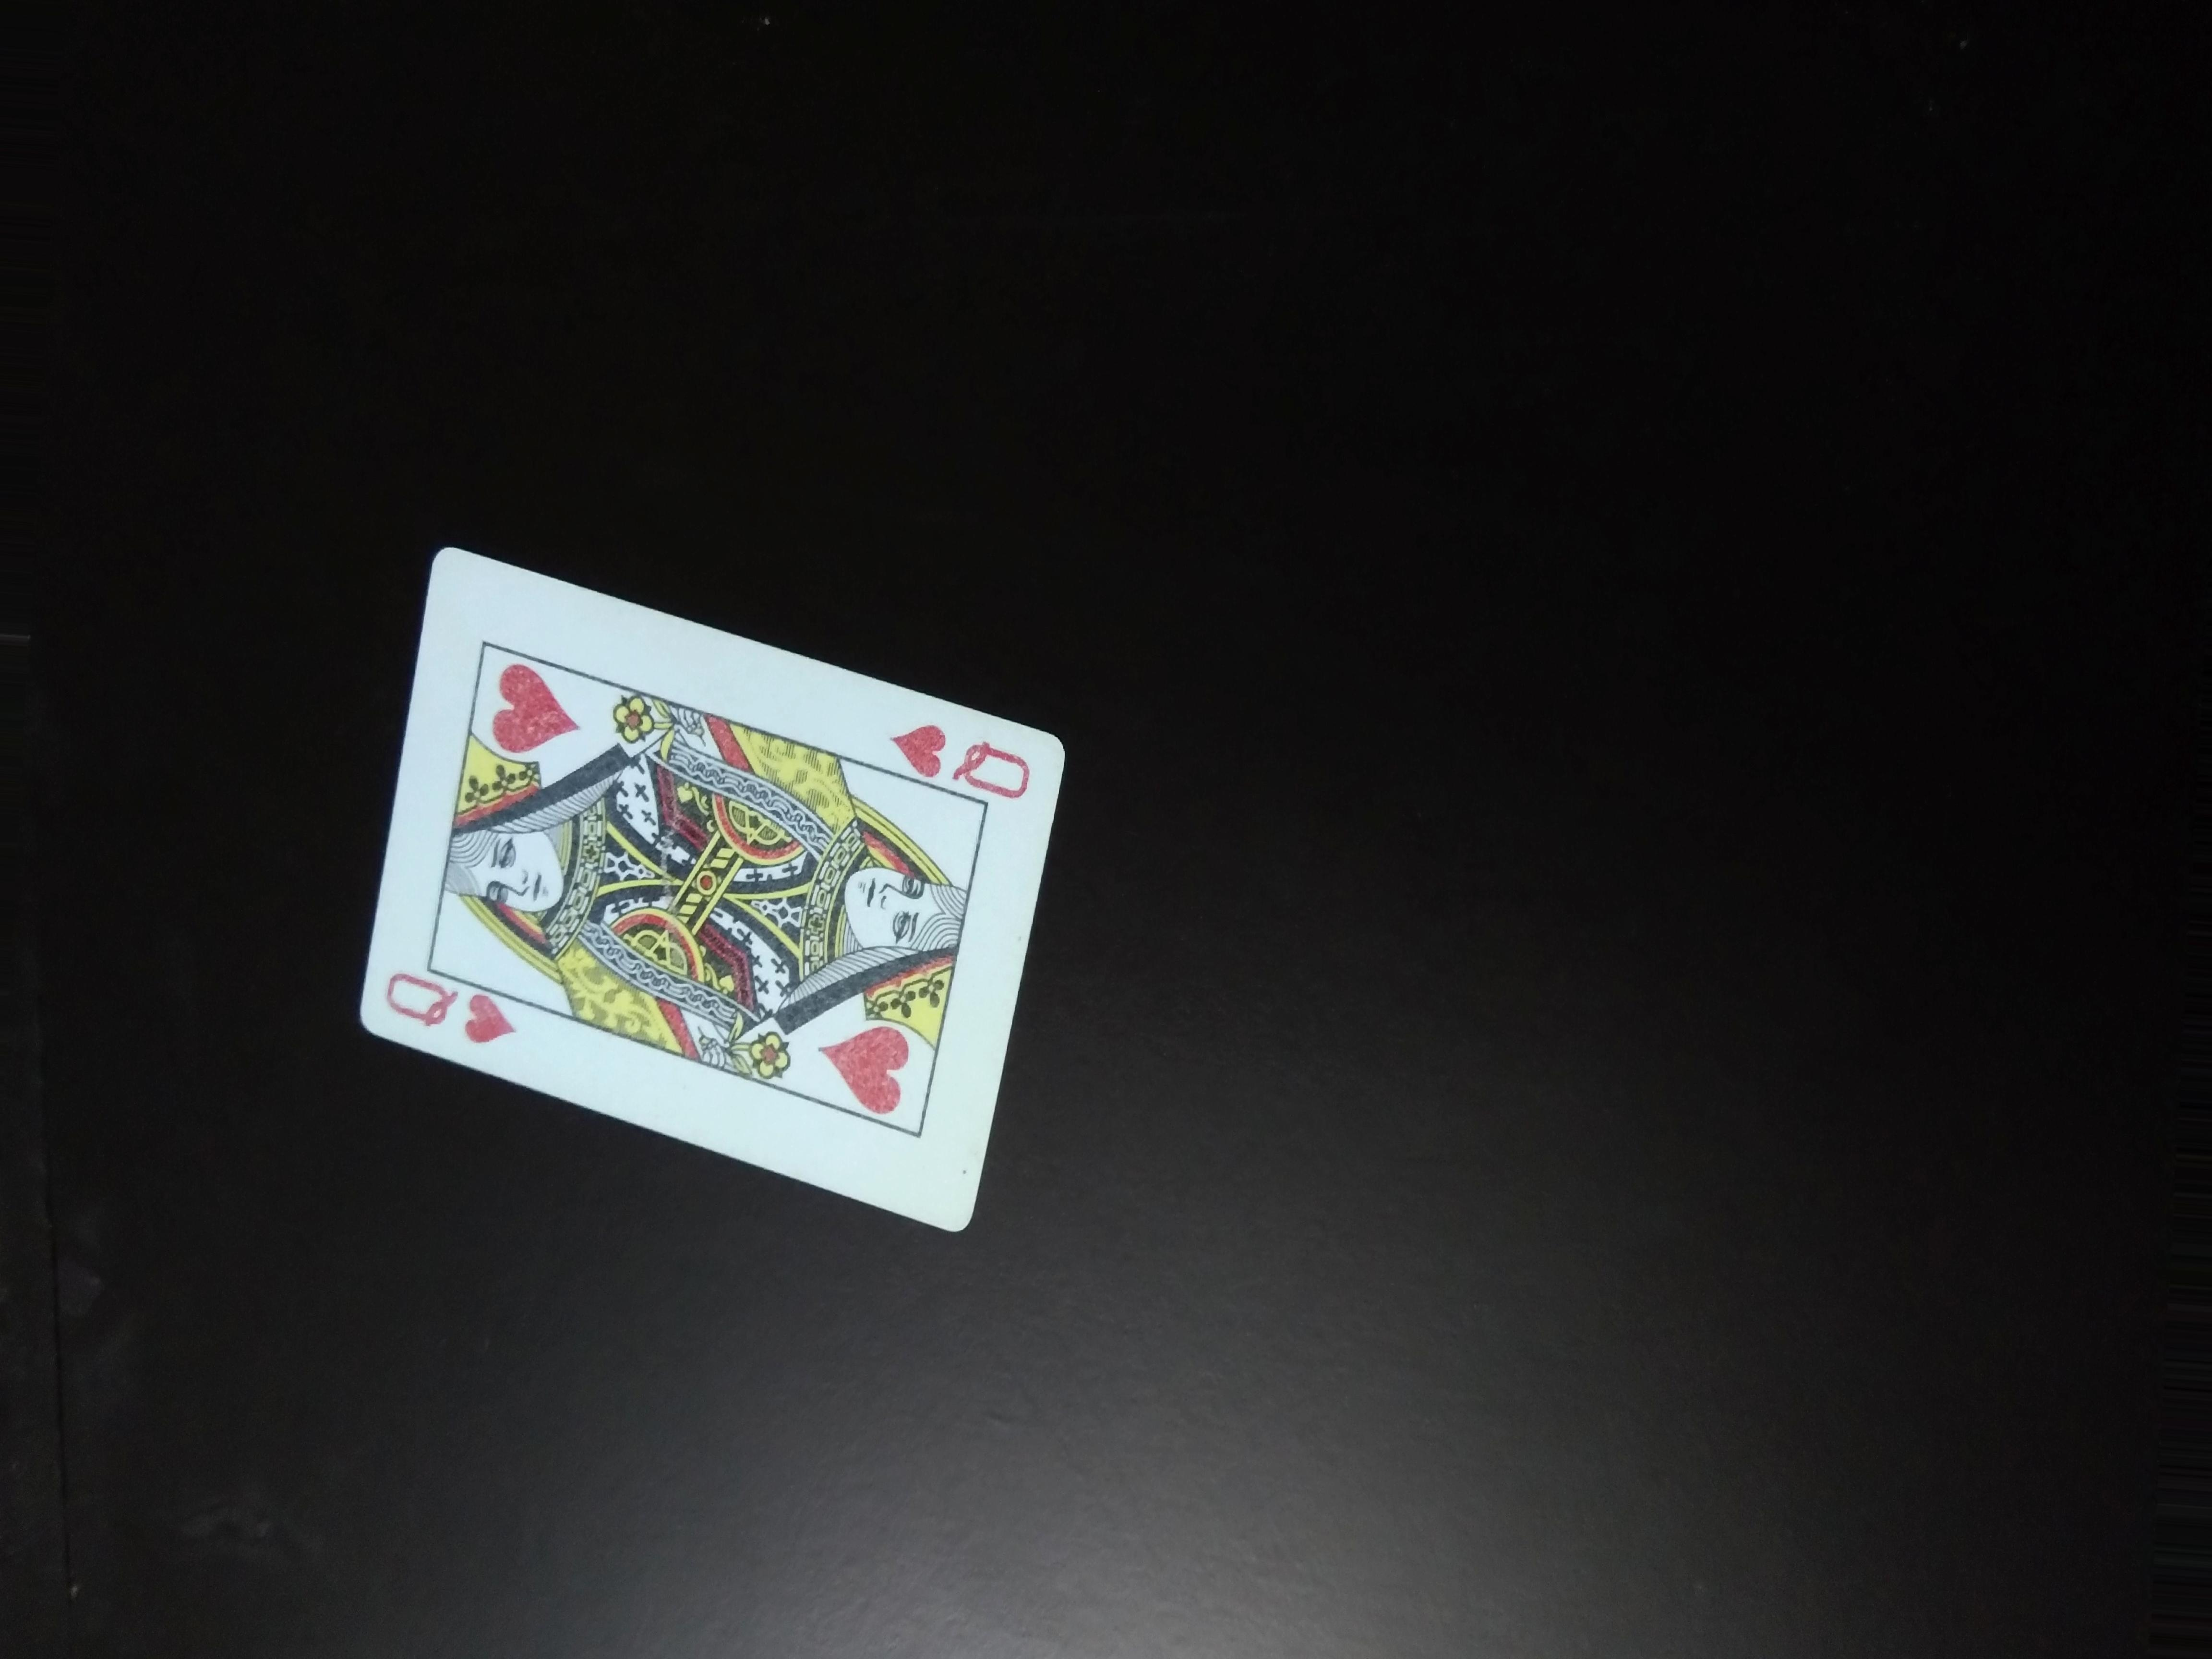QH: (362, 969, 550, 1046)
